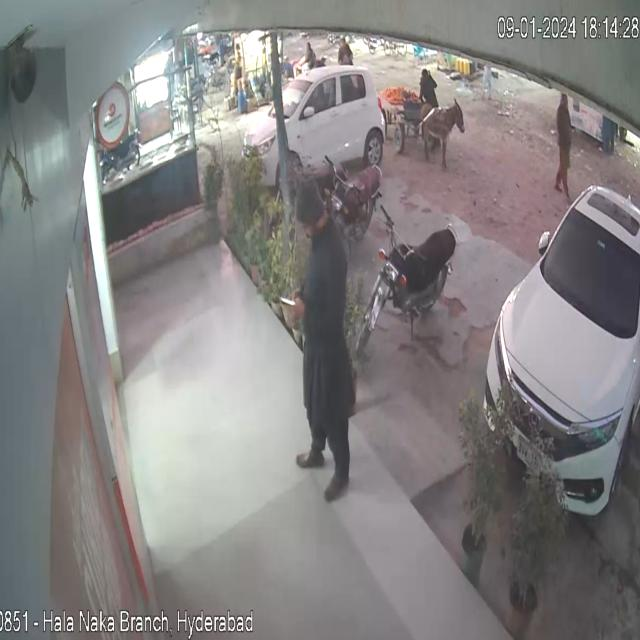Car: (482, 139, 640, 529), (221, 52, 389, 175)
Motorcycle: (355, 193, 467, 360), (324, 154, 388, 248)
